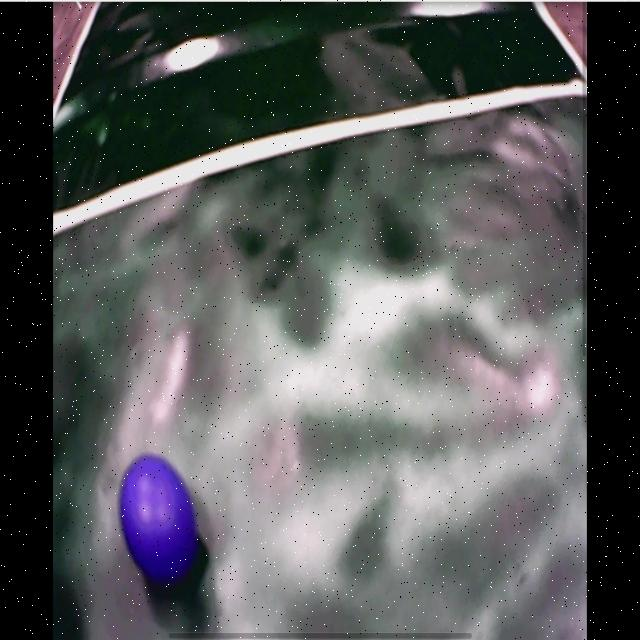ball: (120, 453, 199, 585)
